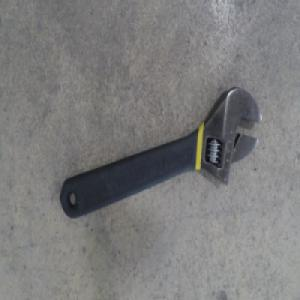AdjustableWrench: (59, 87, 261, 220)
